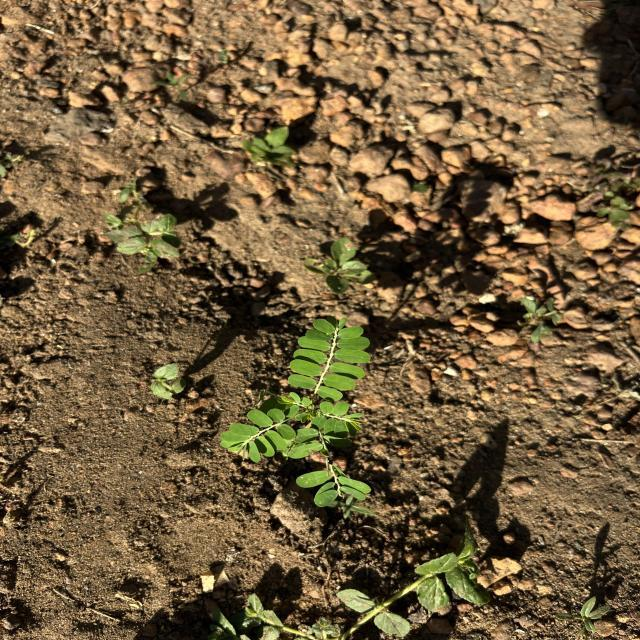Phyllanthus niruri: (287, 312, 371, 403), (217, 406, 298, 464), (307, 400, 366, 438)
